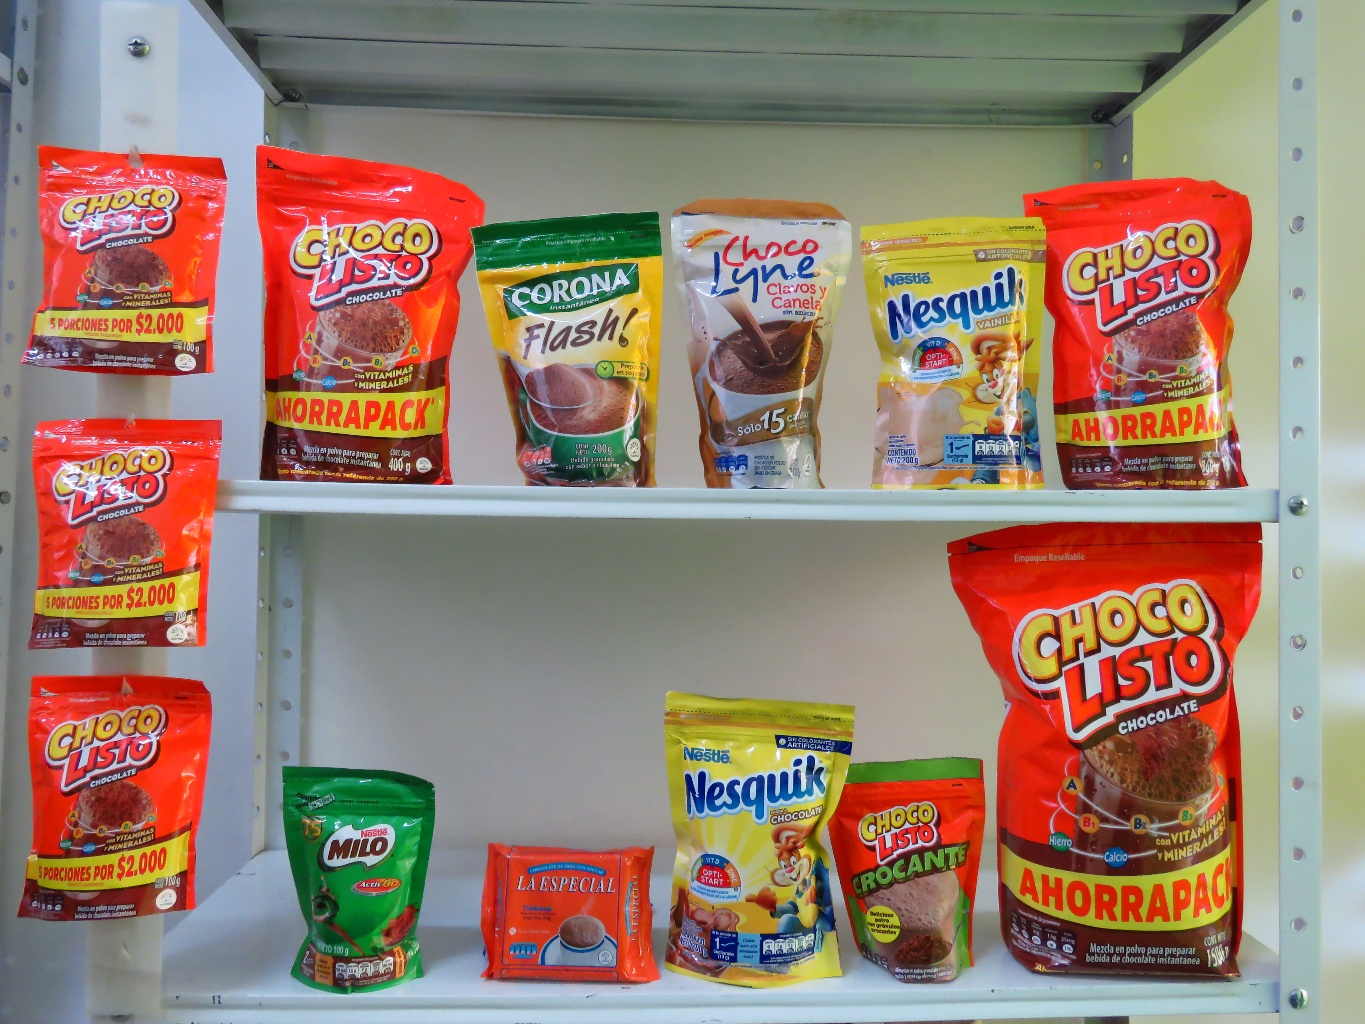COL0170102DYP10000: (824, 740, 1001, 970)
COL0170103DYP1,500: (955, 517, 1265, 979)
COL0170103DYP10000: (16, 673, 221, 920)
COL0170103DYP36000: (1029, 165, 1259, 489)
COL0170103DYP40000: (250, 147, 470, 490)
COL0170203DYP10000: (268, 748, 450, 1002)
COL0170303DYP20000: (646, 683, 852, 993)
COL0170306DYP20000: (866, 219, 1046, 489)
